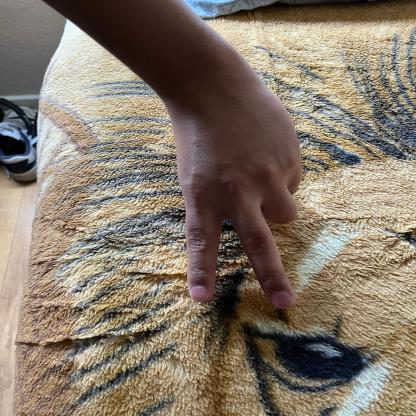N: (163, 98, 312, 310)
